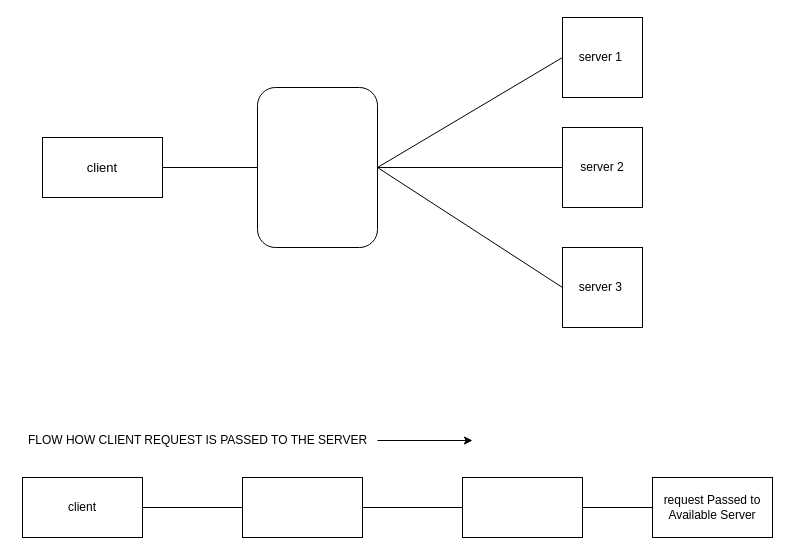
The diagram is 790 pixels wide and 555 high, and some of its shapes have lost their labels. Each missing label, with the centre of its shape:
"getNextAvailable Server" goes at [522,507].
"Load Balancer" goes at [317,167].
"serverProxy" goes at [302,507].
